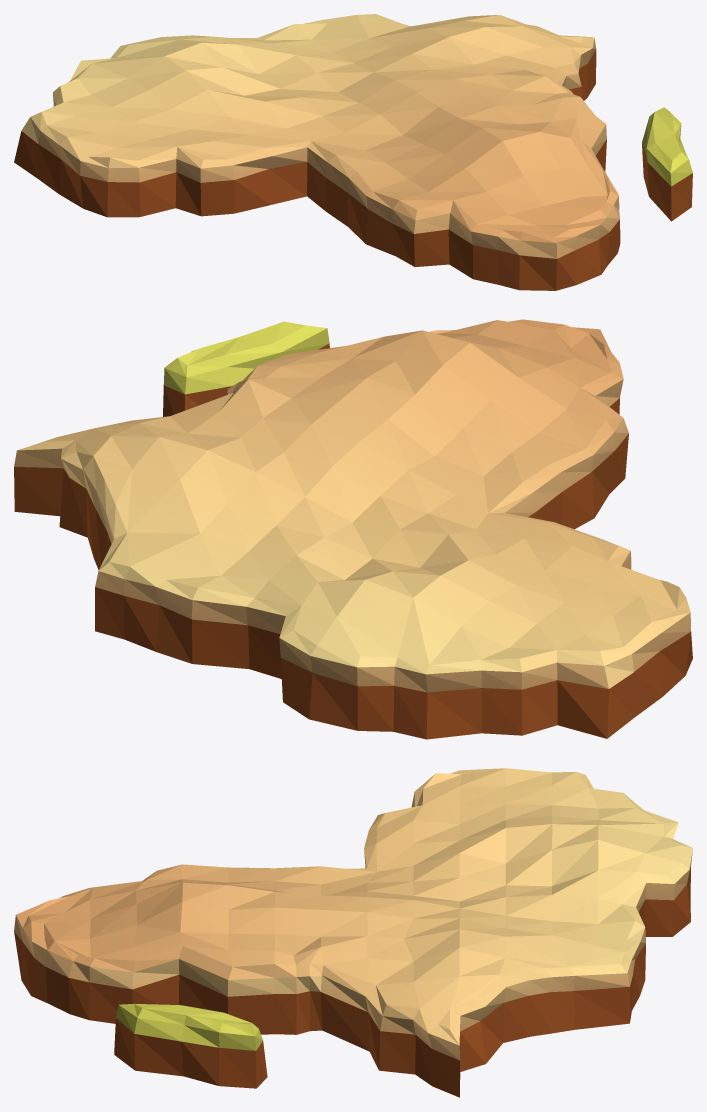
File: africa.glb
3 views of the same model, one above another, from view 1: azimuth 30°, elevation 25°; view 2: azimuth 150°, elevation 25°; view 3: azimuth 270°, elevation 25° (orthographic). The views are drawn at different scales.
Visible parts, largest first — view 1: africa; view 2: africa; view 3: africa.
Boxes of the visible parts, x1,y1,x2,y2 form: africa: (14,14,692,290); africa: (14,319,692,739); africa: (14,768,692,1097).
Size of the model in its own units: 3.92 by 0.6609 by 4.09.
Materials: 1 (1 with a texture image).
